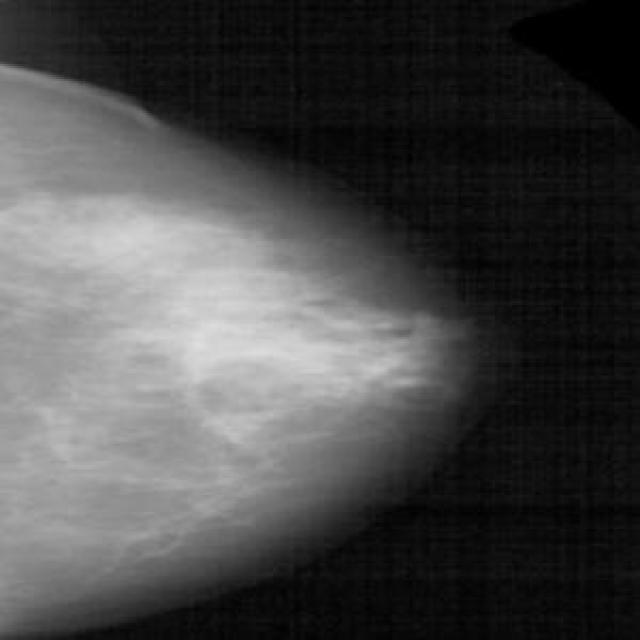tumor: (149, 246, 446, 424)
